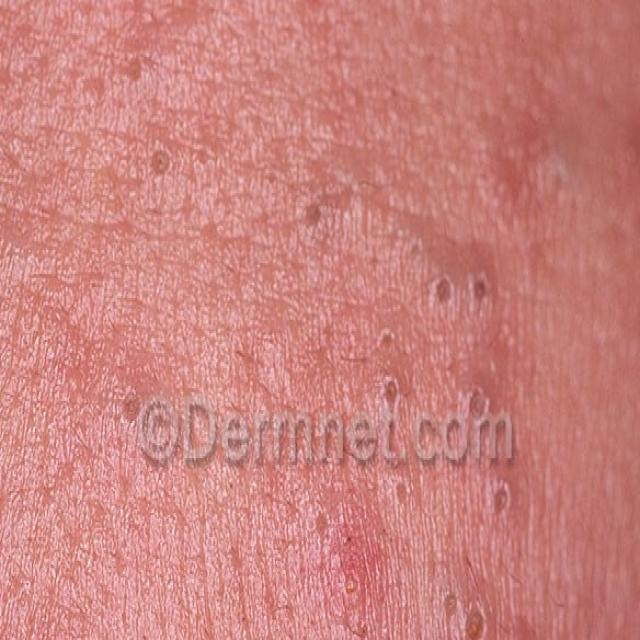Acne: (226, 426, 379, 640), (112, 42, 207, 228), (423, 246, 513, 348), (425, 563, 539, 640), (366, 315, 415, 445), (101, 370, 159, 468), (299, 156, 340, 278)
